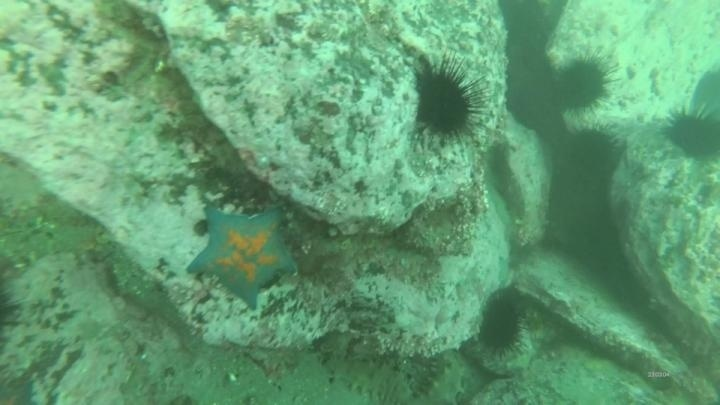echinus: (409, 57, 485, 144), (551, 53, 615, 115), (475, 290, 528, 358), (661, 104, 720, 162), (562, 123, 623, 179)
holothurian: (319, 350, 418, 403), (422, 350, 473, 405)
starfish: (186, 201, 299, 312), (0, 373, 40, 404)
